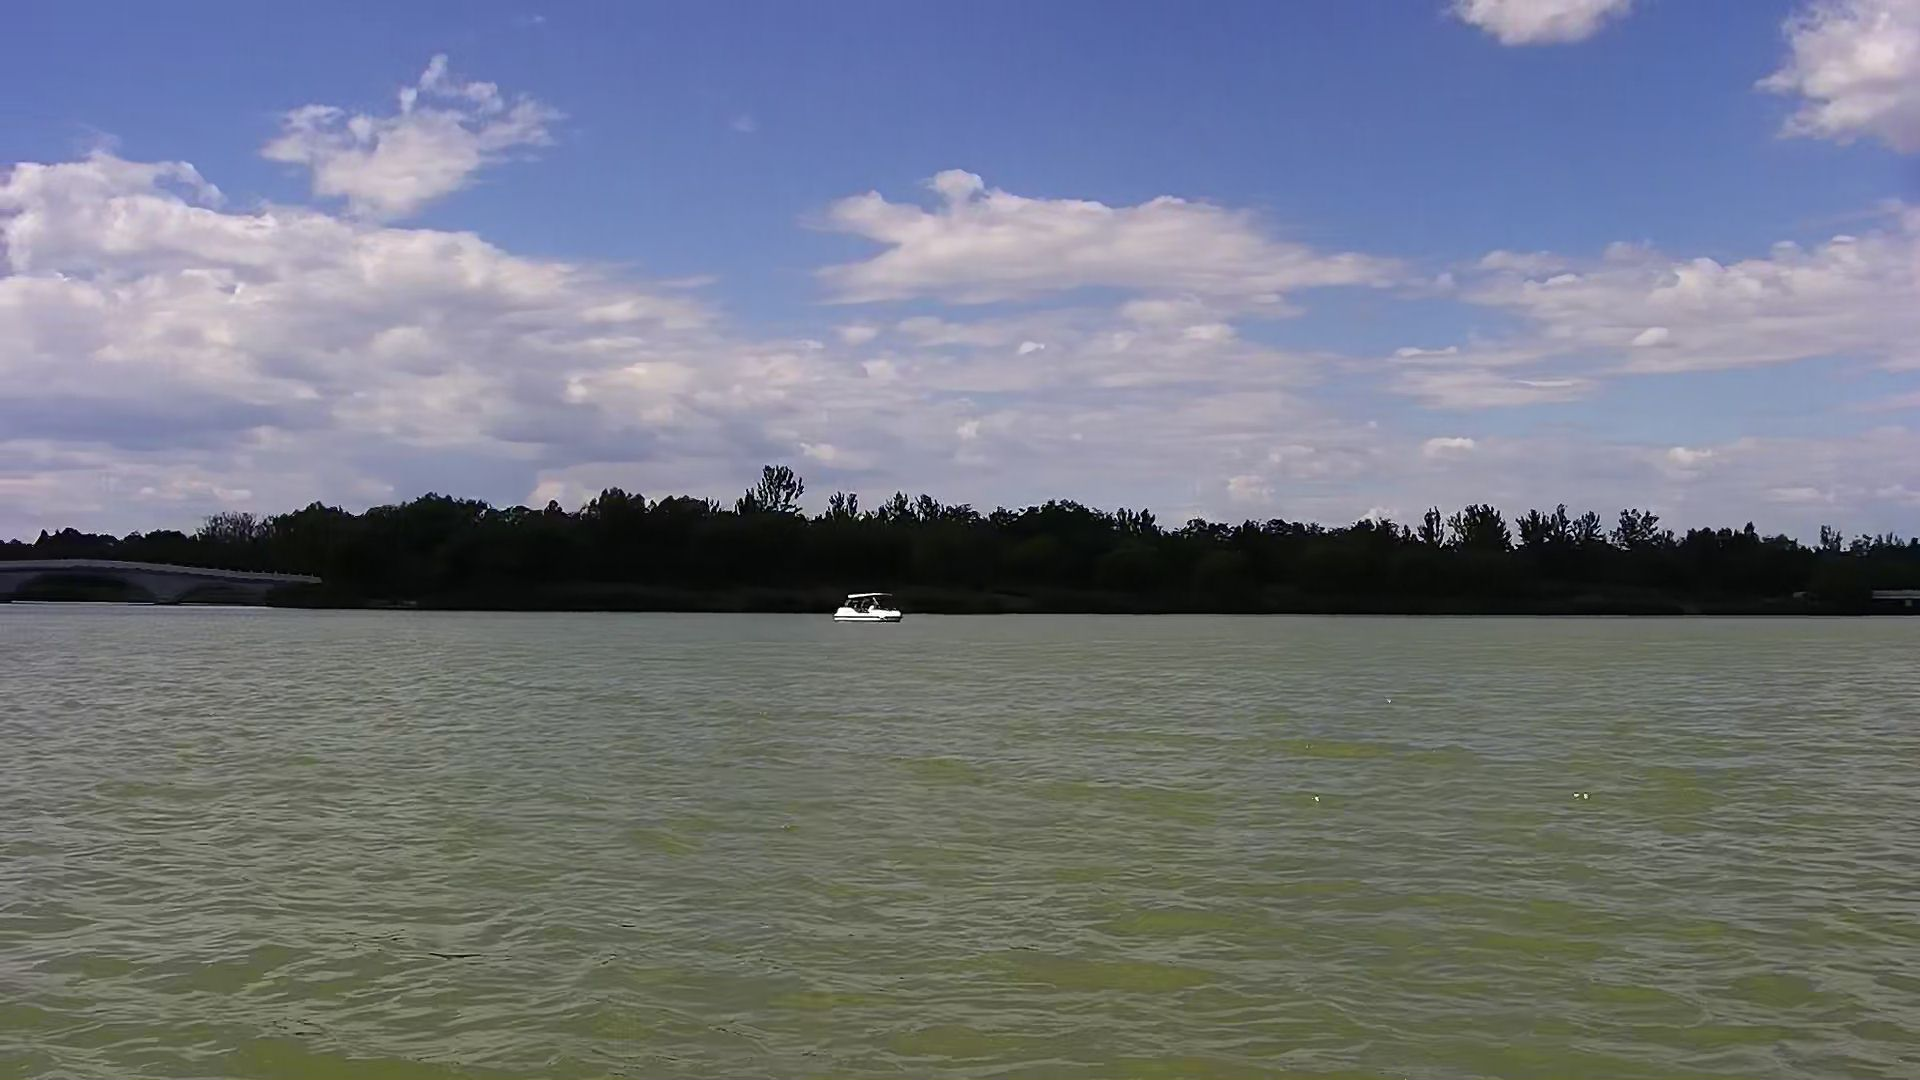boat: (825, 591, 901, 622)
bridge: (7, 551, 318, 611)
